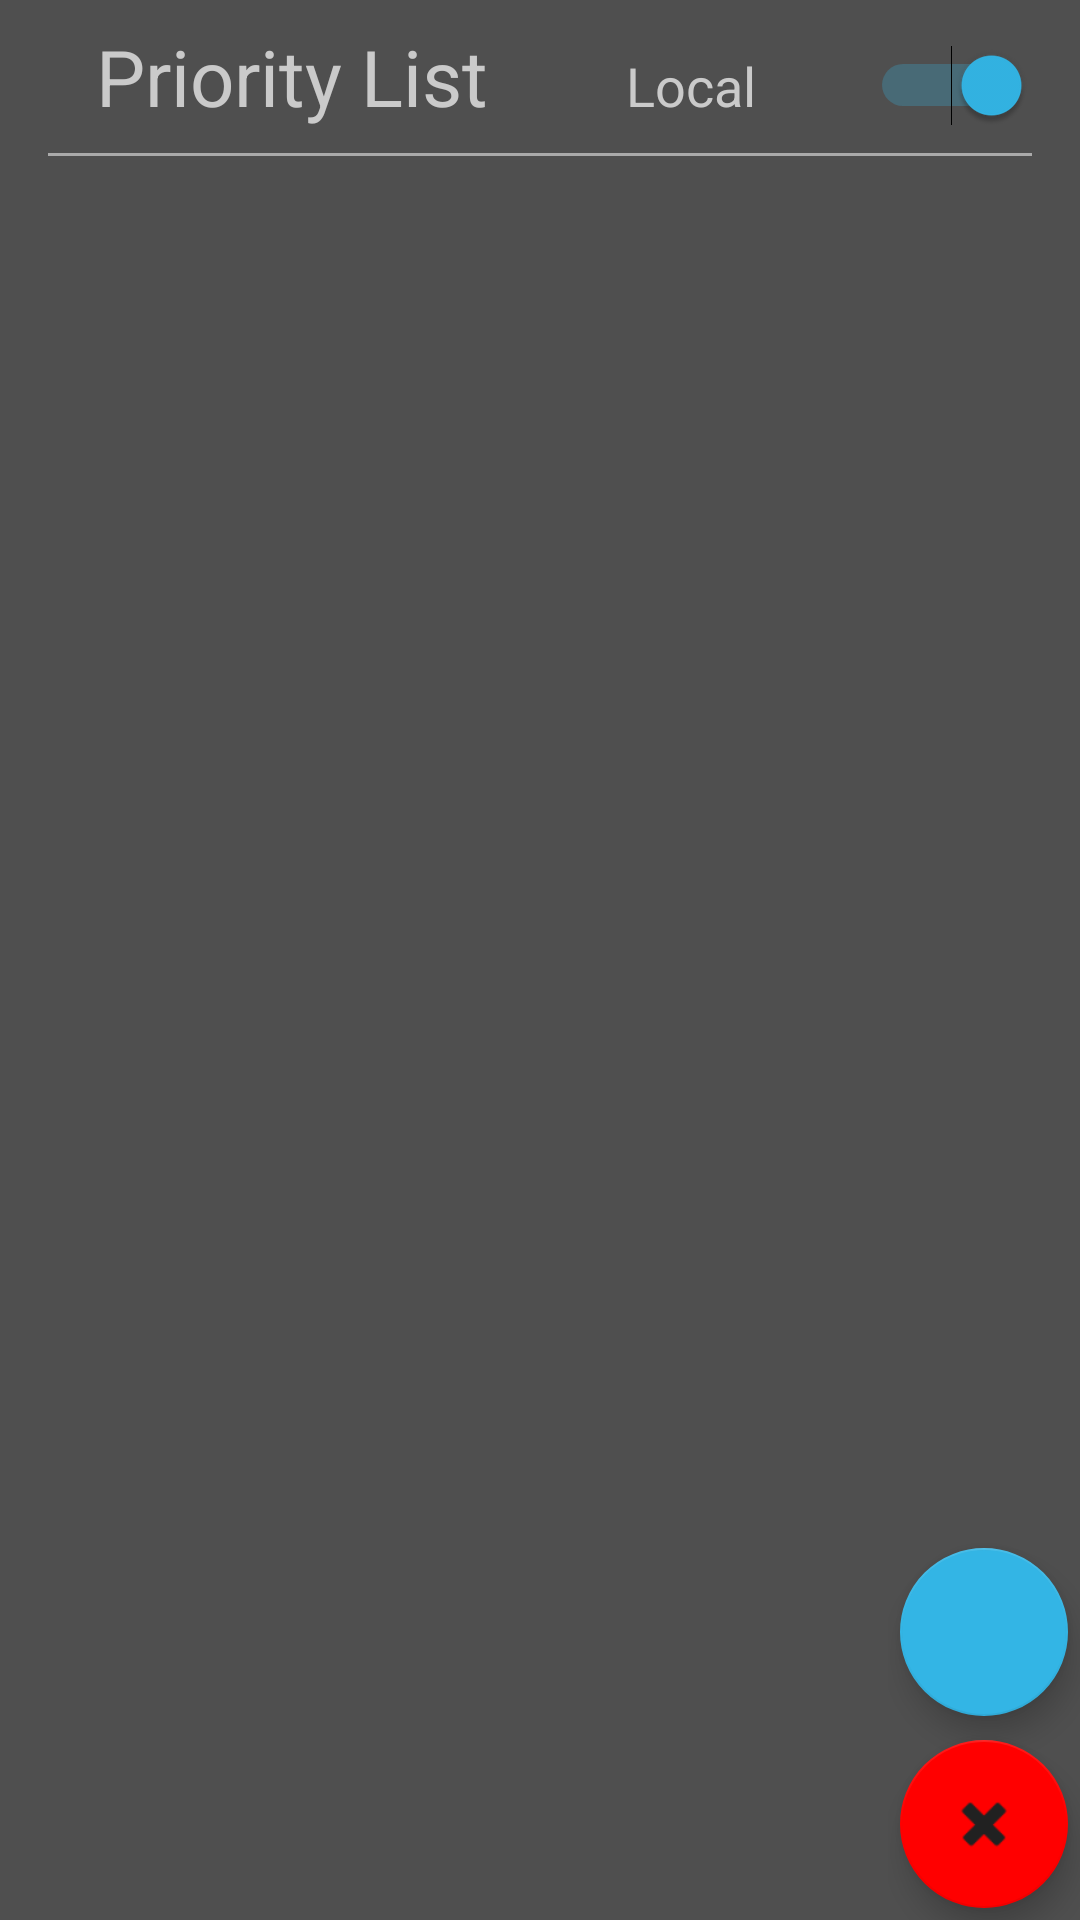

Point at icon controls on the screen. Image size 1080*1920, points as (x=x, y=y).
delete: (x=984, y=1824)
